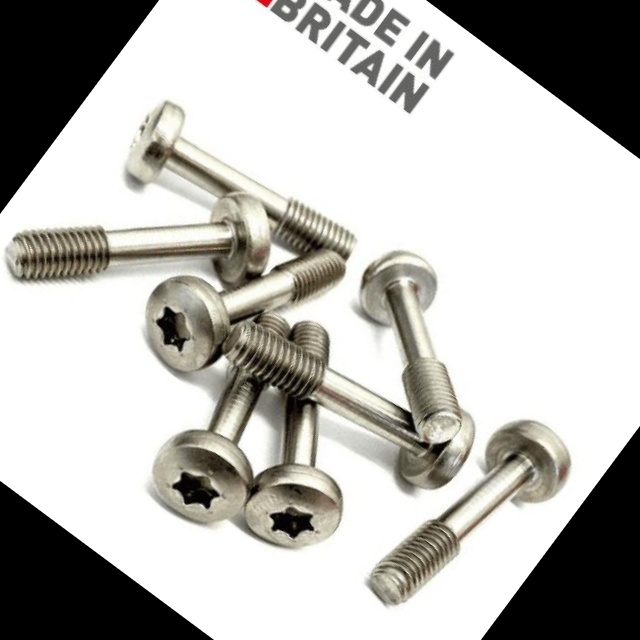torx: (133, 409, 271, 545), (227, 440, 362, 574), (120, 258, 251, 388)
